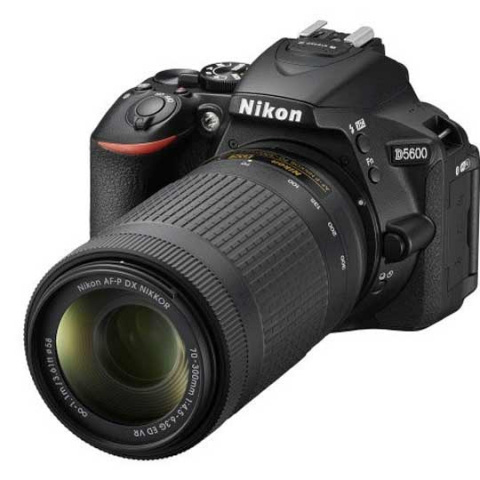kamera: (10, 18, 480, 470)
